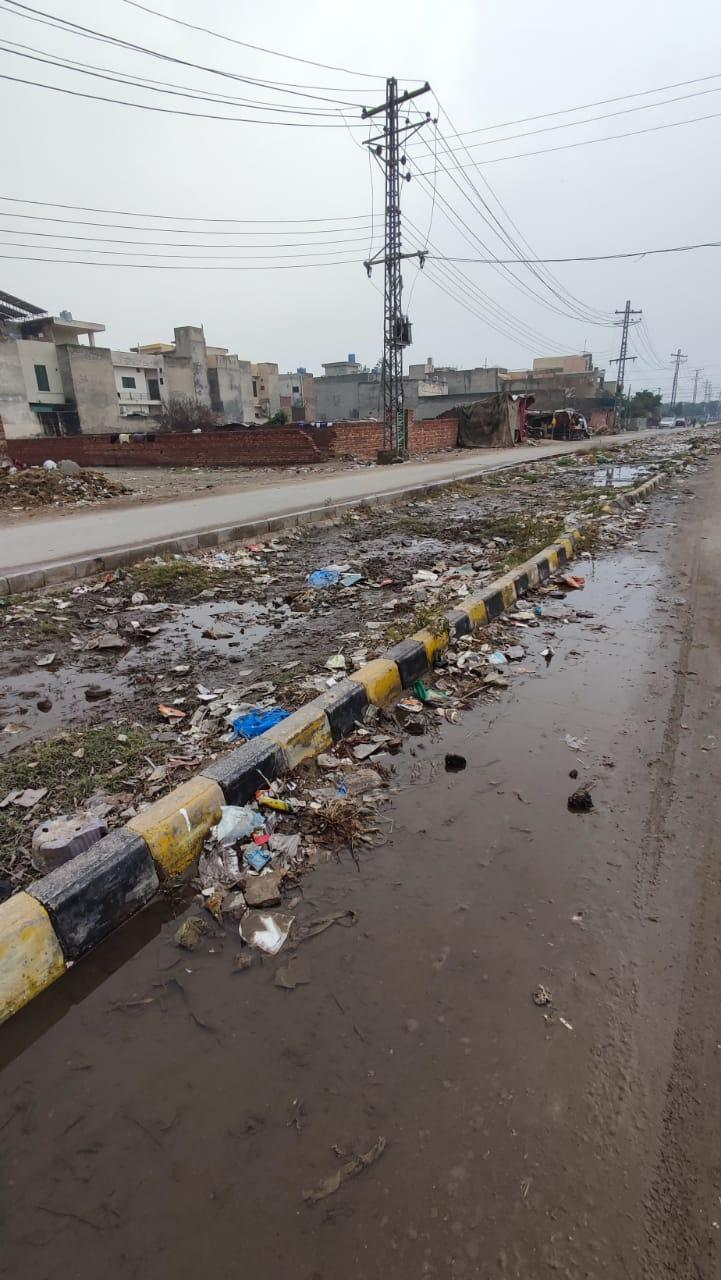garbage: (106, 528, 555, 919)
